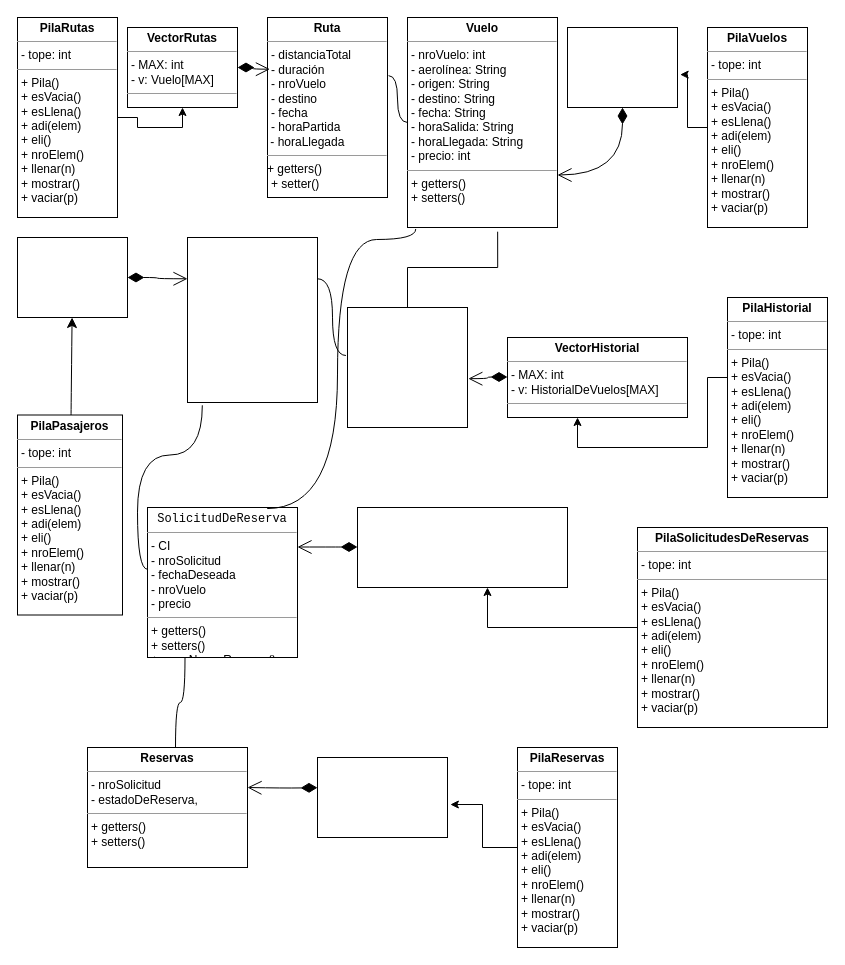
Image size: 845x965. Some labels were removed from this diagram. Each missing label, with the box of its shape:
HistorialVuelos - nroVuelo: int - CI + getters() + setters(): (346, 306, 468, 428)
Pasajero - nombre - apellido - CI - edad - nacionalidad + getters() + setters(): (186, 236, 318, 402)
VectorPasajero - MAX: int - v: Vuelo[MAX]: (16, 236, 128, 318)
VectorReservas - MAX: int - v: Reservas[MAX]: (316, 756, 448, 838)
VectorSolicitudesDeReserva - MAX: int - v: SolicitudDeReserva[MAX]: (356, 506, 568, 588)
VectorVuelos - MAX: int - v: Vuelo[MAX]: (566, 26, 678, 108)
